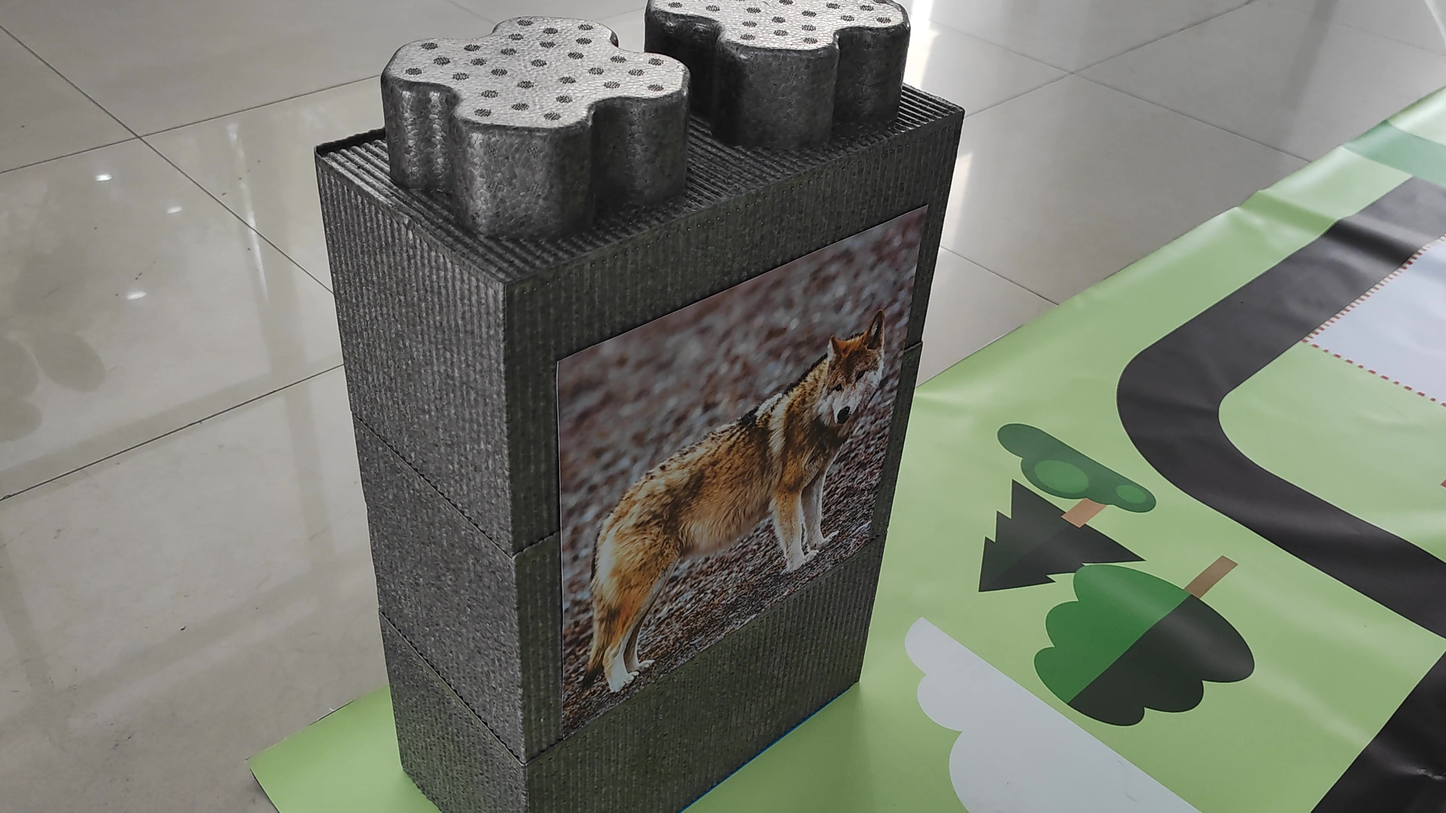wolf: (578, 305, 895, 698)
